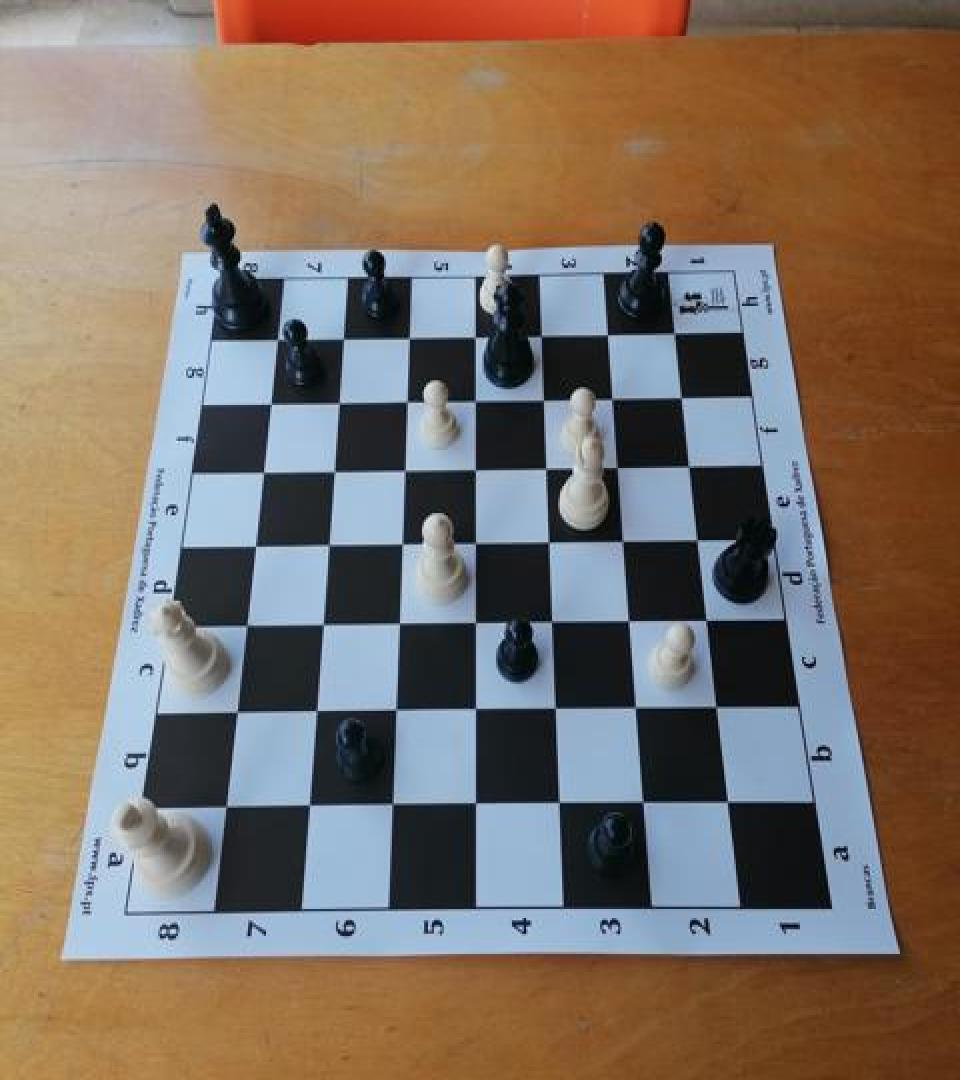xcorner: (208, 792, 238, 826), (291, 791, 321, 825), (375, 790, 405, 824), (460, 788, 490, 822), (545, 788, 575, 822), (630, 786, 660, 820), (716, 785, 746, 819), (218, 698, 248, 732), (298, 696, 328, 730), (379, 695, 409, 729), (460, 694, 490, 728), (541, 692, 571, 726), (623, 690, 653, 724), (705, 690, 735, 724), (228, 611, 258, 645), (305, 610, 335, 644), (382, 608, 412, 642), (460, 606, 490, 640), (538, 605, 568, 639), (616, 604, 646, 638), (695, 602, 725, 636), (236, 531, 266, 565), (310, 528, 340, 562), (385, 528, 415, 562), (459, 526, 489, 560), (535, 524, 565, 558), (610, 523, 640, 557), (686, 521, 716, 555), (316, 454, 346, 488), (387, 453, 417, 487), (459, 451, 489, 485), (532, 450, 562, 484), (677, 446, 707, 480), (252, 388, 282, 422), (321, 386, 351, 420), (390, 384, 420, 418), (459, 382, 489, 416), (529, 380, 559, 414), (599, 379, 629, 413), (669, 377, 699, 411), (259, 324, 289, 358), (325, 322, 355, 356), (459, 318, 489, 352), (526, 316, 556, 350), (594, 314, 624, 348), (662, 312, 692, 346), (244, 457, 274, 490), (604, 448, 634, 481), (392, 320, 422, 353)
